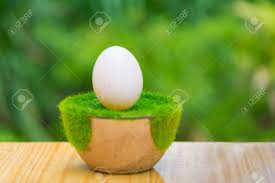egg: (93, 47, 144, 110)
